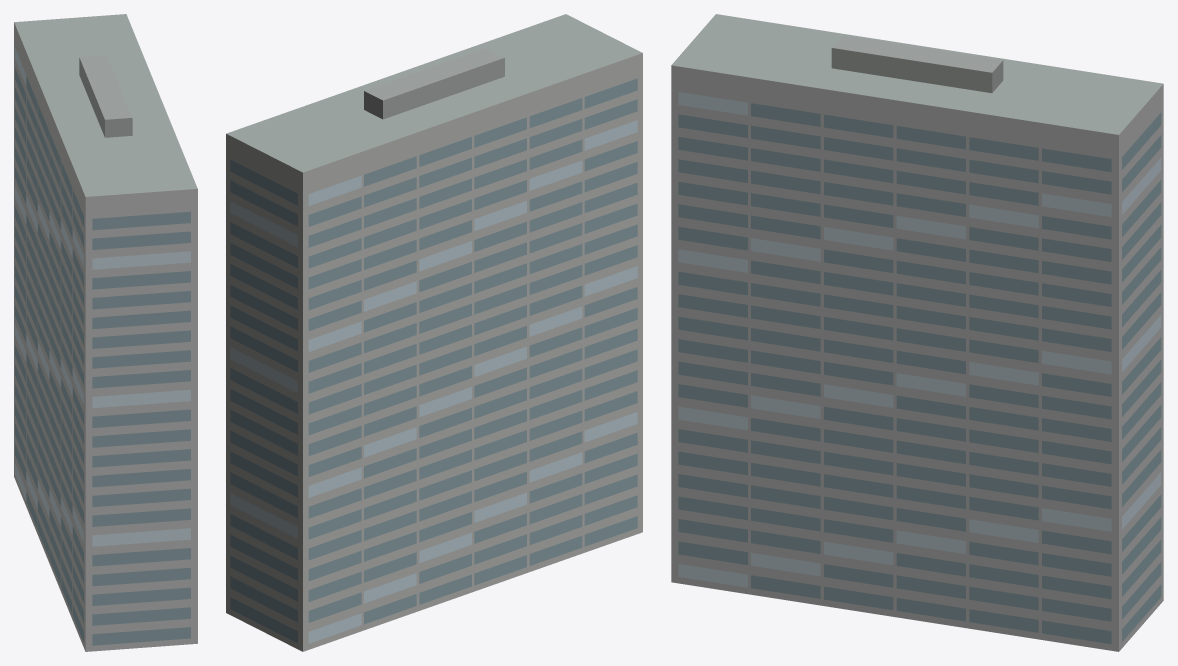
Rendered from fallback-jamsil-els-132.glb.
3 renders of one model, left to right at view 1: azimuth 30°, elevation 25°; view 2: azimuth 150°, elevation 25°; view 3: azimuth 270°, elevation 25°, orthographic. The views are drawn at different scales.
Parts seen in each view (by area): view 1: fallback-jamsil-els-132; view 2: fallback-jamsil-els-132; view 3: fallback-jamsil-els-132.
Part boxes in pixels (bbox=[...]): fallback-jamsil-els-132: bbox=[14, 14, 197, 651]; fallback-jamsil-els-132: bbox=[226, 14, 642, 651]; fallback-jamsil-els-132: bbox=[671, 14, 1163, 651].
Bounding box in the file's own units: 30.42 × 63 × 52.32.
